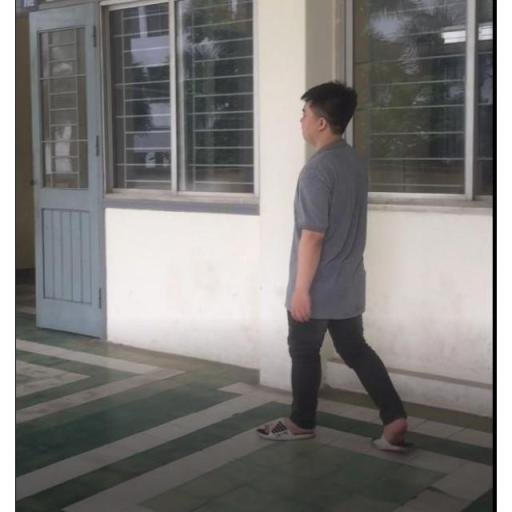Running: (246, 71, 424, 451)
